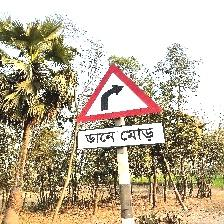Right-turn: (75, 63, 166, 148)
